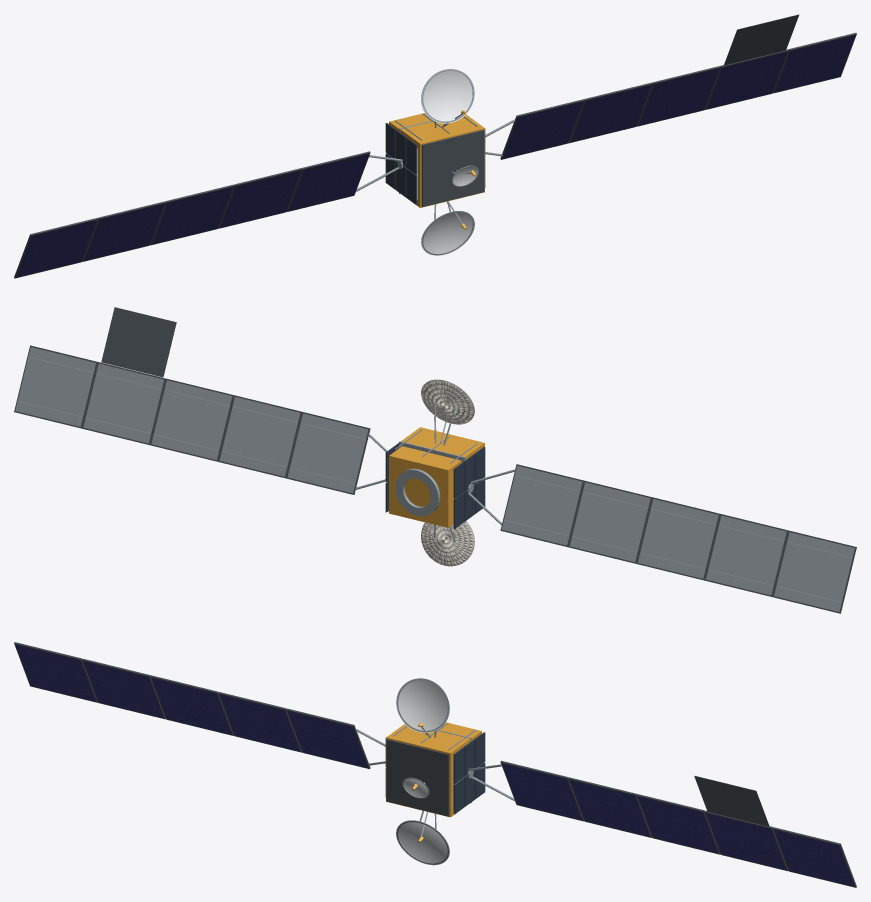
Rendered from astra-2b.glb.
3 renders of one model, top to bottom at view 1: azimuth 30°, elevation 25°; view 2: azimuth 150°, elevation 25°; view 3: azimuth 330°, elevation 25°, orthographic.
Visible parts, largest first — view 1: Solar cell panel (×10), Earth-facing deck, Reflector 2 face, Solar wing trim flap, Payload module, Reflector 1 face; view 2: Rear array substrate (×10), Solar wing trim flap, Service module, Reflector 1 insulated back, Reflector 2 insulated back, Payload module, Launch adapter ring; view 3: Solar cell panel (×10), Earth-facing deck, Reflector 2 face, Solar wing trim flap, Payload module, Reflector 1 face.
Boxes of the visible parts, x1=… form: Solar cell panel (×10): x1=16, y1=35, x2=855, y2=277; Earth-facing deck: x1=421, y1=130, x2=484, y2=206; Reflector 2 face: x1=421, y1=69, x2=474, y2=123; Solar wing trim flap: x1=724, y1=14, x2=799, y2=65; Payload module: x1=400, y1=114, x2=484, y2=207; Reflector 1 face: x1=421, y1=211, x2=474, y2=255; Rear array substrate (×10): x1=15, y1=347, x2=854, y2=611; Solar wing trim flap: x1=101, y1=307, x2=176, y2=377; Service module: x1=389, y1=446, x2=461, y2=527; Reflector 1 insulated back: x1=421, y1=521, x2=474, y2=566; Reflector 2 insulated back: x1=421, y1=380, x2=474, y2=424; Payload module: x1=401, y1=427, x2=484, y2=477; Launch adapter ring: x1=395, y1=468, x2=440, y2=516; Solar cell panel (×10): x1=15, y1=644, x2=854, y2=886; Earth-facing deck: x1=386, y1=739, x2=449, y2=816; Reflector 2 face: x1=396, y1=678, x2=449, y2=732; Solar wing trim flap: x1=694, y1=775, x2=769, y2=826; Payload module: x1=386, y1=724, x2=470, y2=817; Reflector 1 face: x1=396, y1=820, x2=449, y2=865.
Bounding box in the file's own units: 31.97 × 6.84 × 3.34.
Materials: 10 (1 with a texture image).
